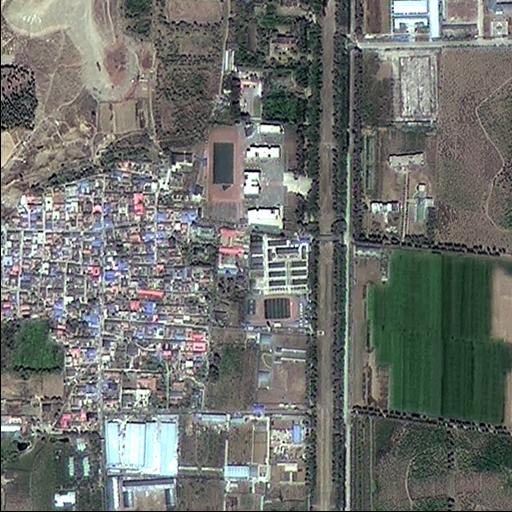school: (192, 119, 287, 229), (245, 231, 310, 330)
